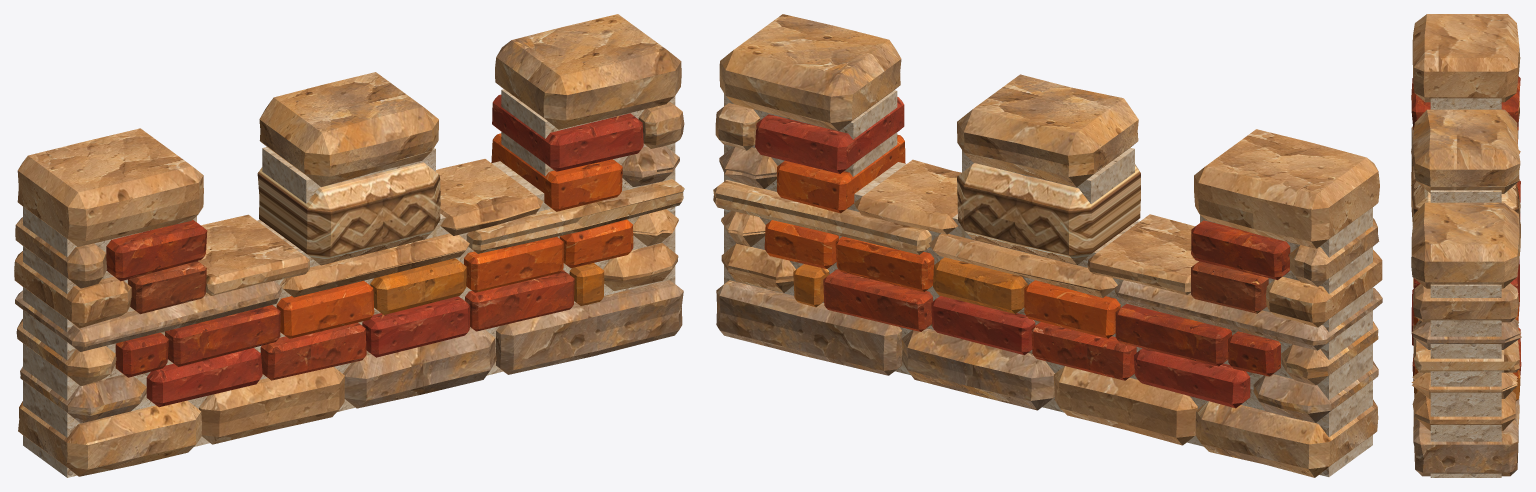
File: battlement__clay_brick.glb
The picture shows the model from 3 angles, left to right: view 1: azimuth 30°, elevation 25°; view 2: azimuth 150°, elevation 25°; view 3: azimuth 270°, elevation 25°; orthographic projection. The views are drawn at different scales.
Visible parts, largest first — view 1: model; view 2: model; view 3: model.
Boxes of the visible parts, left/top/right/bottom form: model: left=14, top=14, right=684, bottom=477; model: left=713, top=14, right=1382, bottom=477; model: left=1411, top=14, right=1521, bottom=477.
Bounding box in the file's own units: 1.98 × 0.884 × 0.3868.
12 materials, 12 textured.
